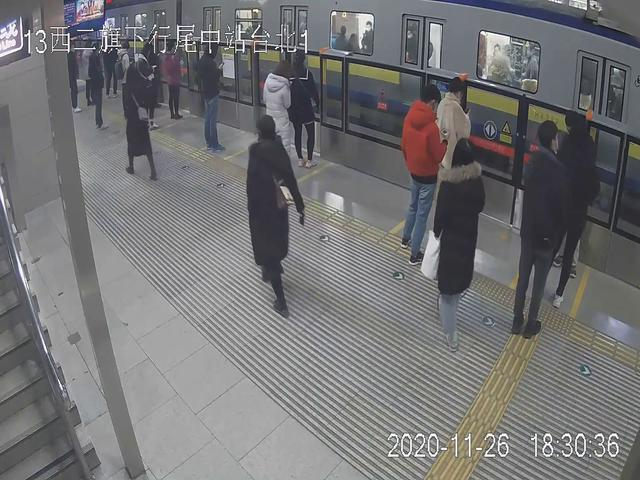person: (246, 115, 301, 316), (514, 115, 561, 340), (547, 105, 595, 305), (435, 135, 479, 351), (404, 79, 439, 267), (432, 71, 470, 227), (122, 63, 166, 186), (285, 49, 320, 170), (194, 34, 224, 154), (264, 60, 292, 180)
